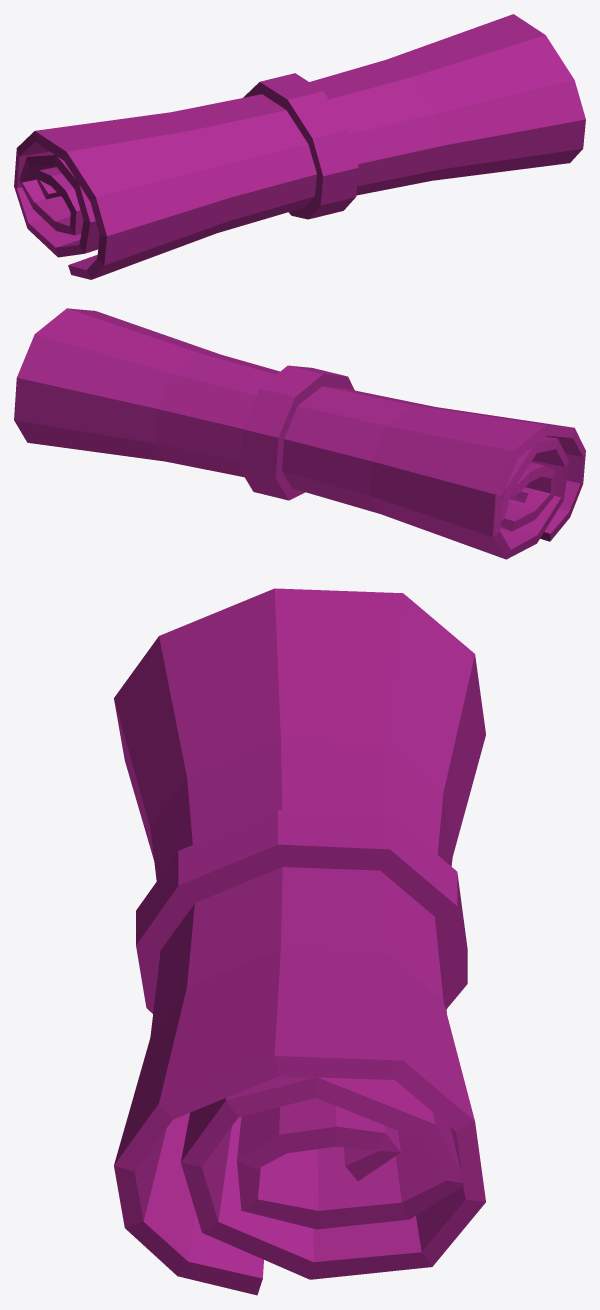
Rendered from Scroll.007.fbx.
3 views of the same model, one above another, from view 1: azimuth 30°, elevation 25°; view 2: azimuth 150°, elevation 25°; view 3: azimuth 270°, elevation 25° (orthographic). The views are drawn at different scales.
Visible parts, largest first — view 1: Scroll.007; view 2: Scroll.007; view 3: Scroll.007.
Part boxes in pixels (left/top/right/bottom): Scroll.007: left=14, top=14, right=585, bottom=279; Scroll.007: left=14, top=308, right=585, bottom=559; Scroll.007: left=114, top=588, right=485, bottom=1295.
Bounding box in the file's own units: 48.48 × 11.48 × 16.16.
